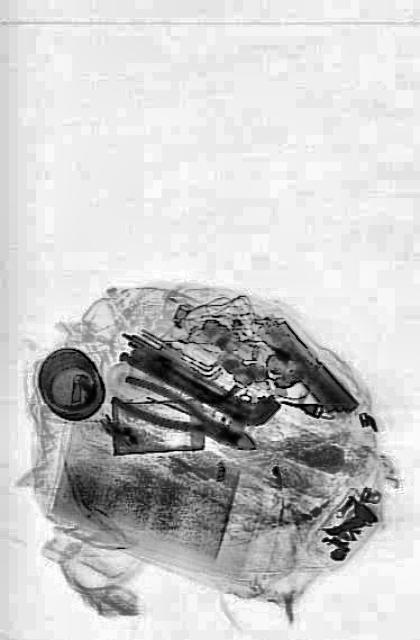Pliers: (110, 366, 258, 466)
